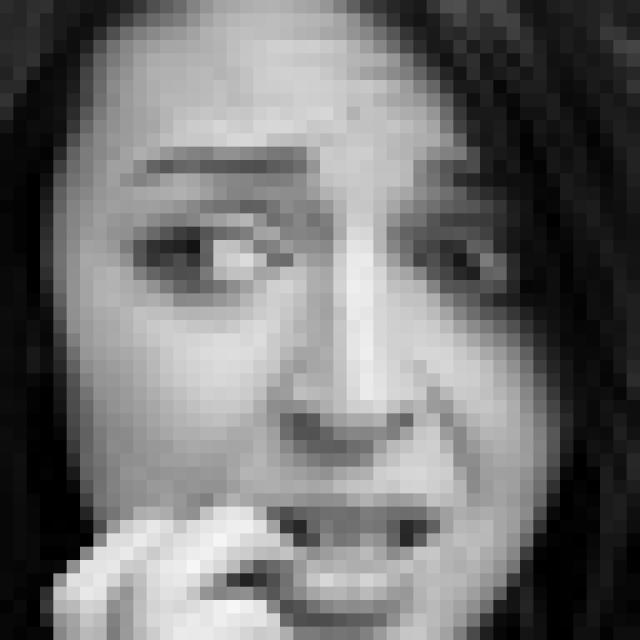fear: (116, 131, 528, 634)
